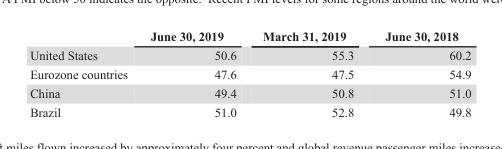table: (29, 28, 470, 118)
table column: (248, 28, 368, 118), (138, 28, 248, 118), (29, 28, 138, 118), (368, 28, 470, 118)
table column header: (29, 28, 470, 45)
table row: (29, 45, 470, 64), (29, 82, 470, 101), (29, 64, 470, 82), (29, 28, 470, 45), (29, 101, 470, 118)
